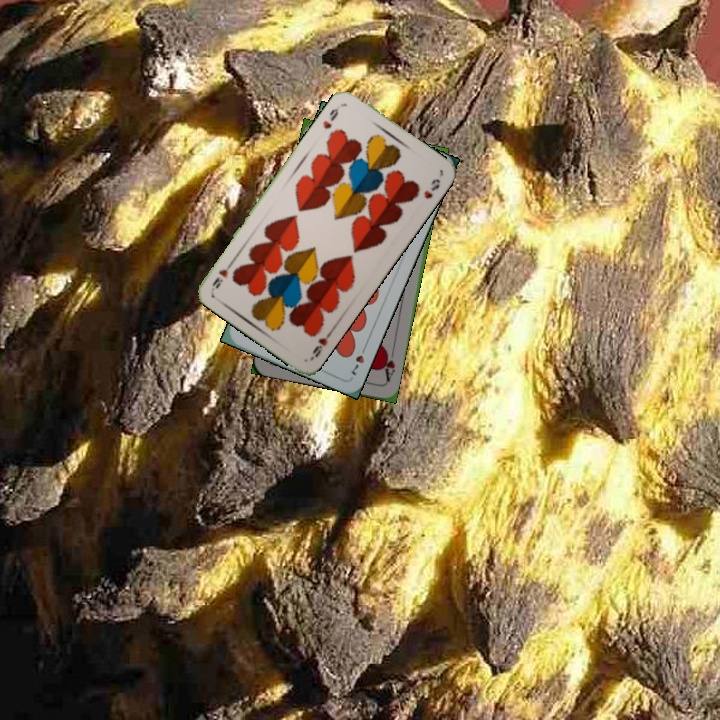H7: (347, 340, 370, 378)
H9: (307, 326, 335, 362), (319, 104, 341, 132)
HA: (378, 345, 398, 384)
